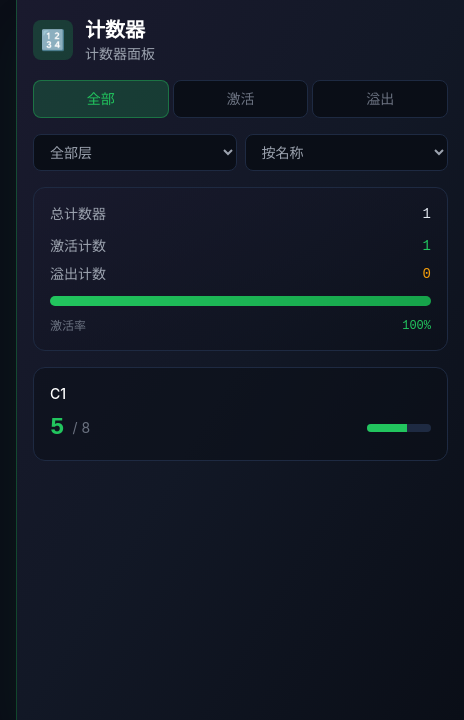
CounterPanel › Tab Filtering › shows empty state for overflow tab with no overflow counters
Click the button with test id "counter-tab-overflow".
click(380, 99)  # box [312,80,448,118]
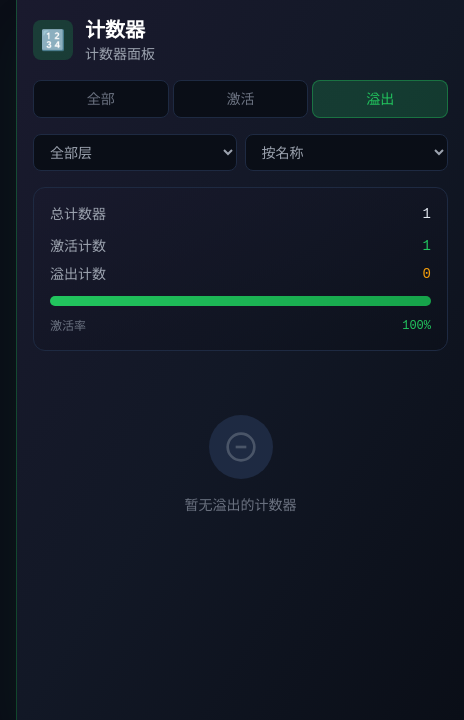
Result: the element with test id "counter-empty-state" is shown at [184,415,296,513]
Result: the text "暂无溢出的计数器" is shown at [184,495,296,515]
